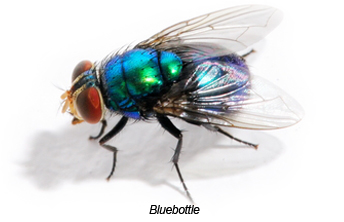green bottles fly: (42, 3, 307, 204)
